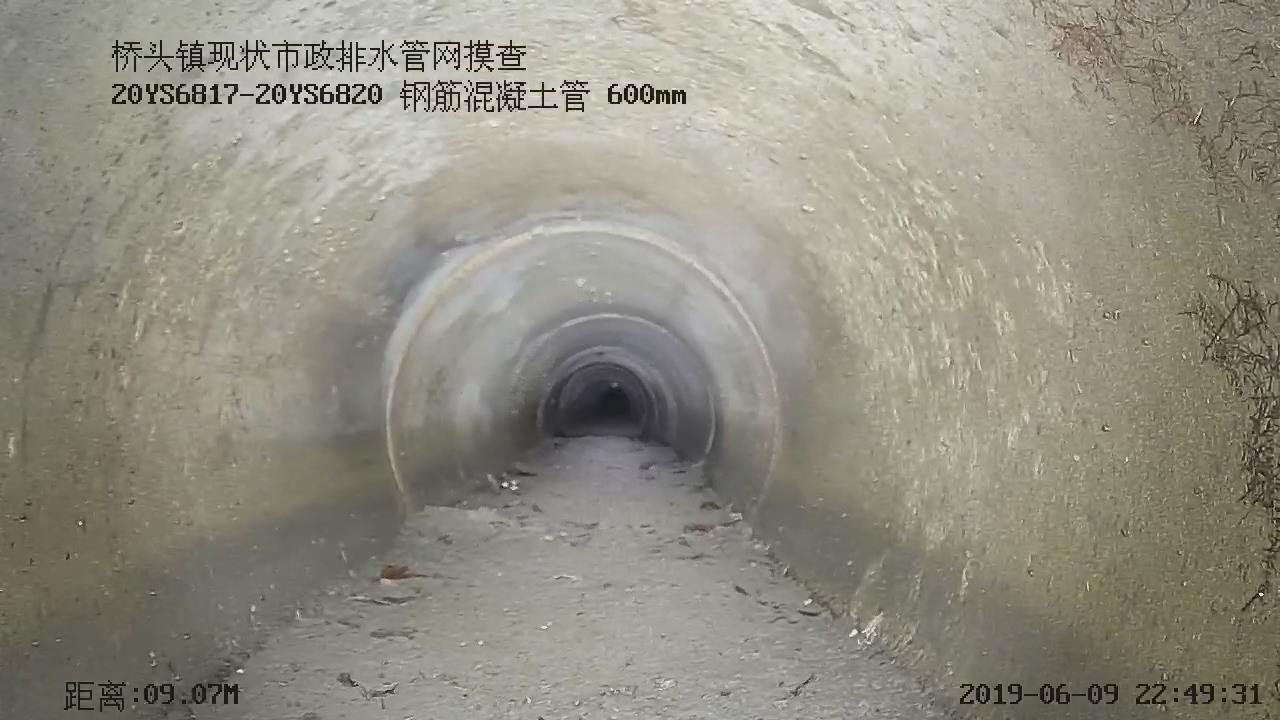CJ: (193, 436, 950, 719)
CKTJ: (380, 215, 789, 538), (498, 311, 719, 455)
